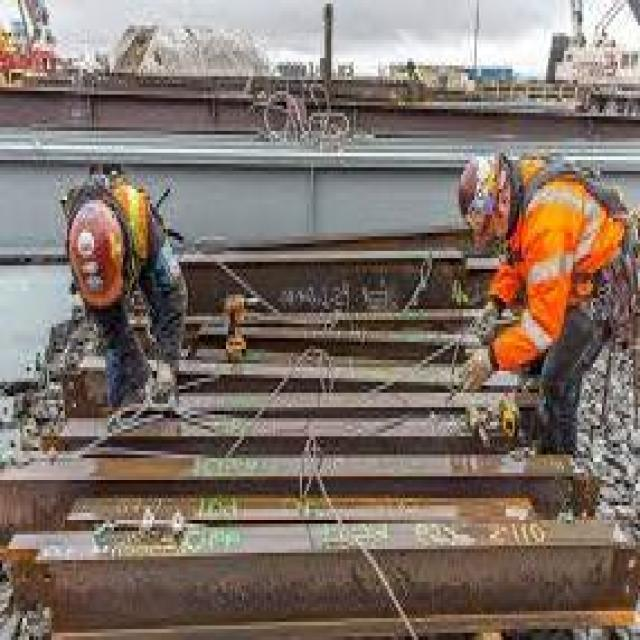Reflective-Jacket: (506, 160, 636, 349)
Safety-Helmet: (454, 142, 517, 240)
